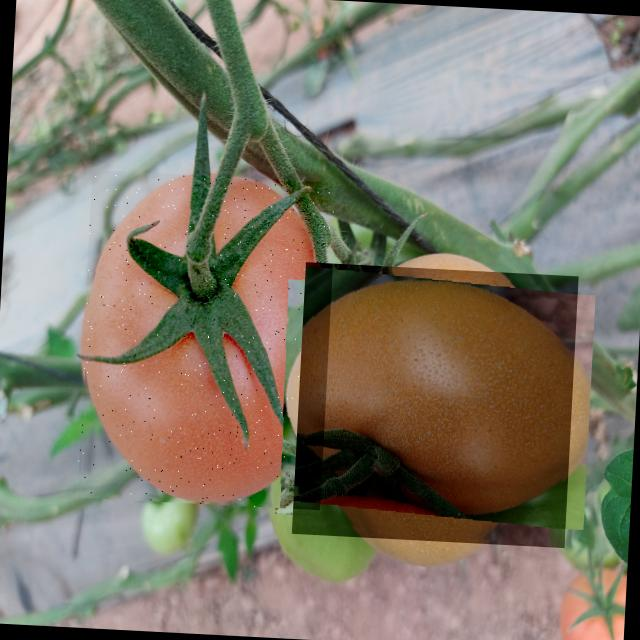Ripe Tomato: (75, 170, 338, 510)
Unripe Tomato: (292, 262, 578, 548)
